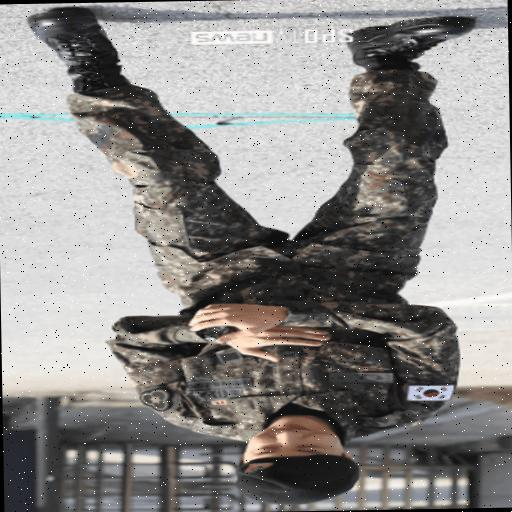korea army: (24, 0, 484, 508)
